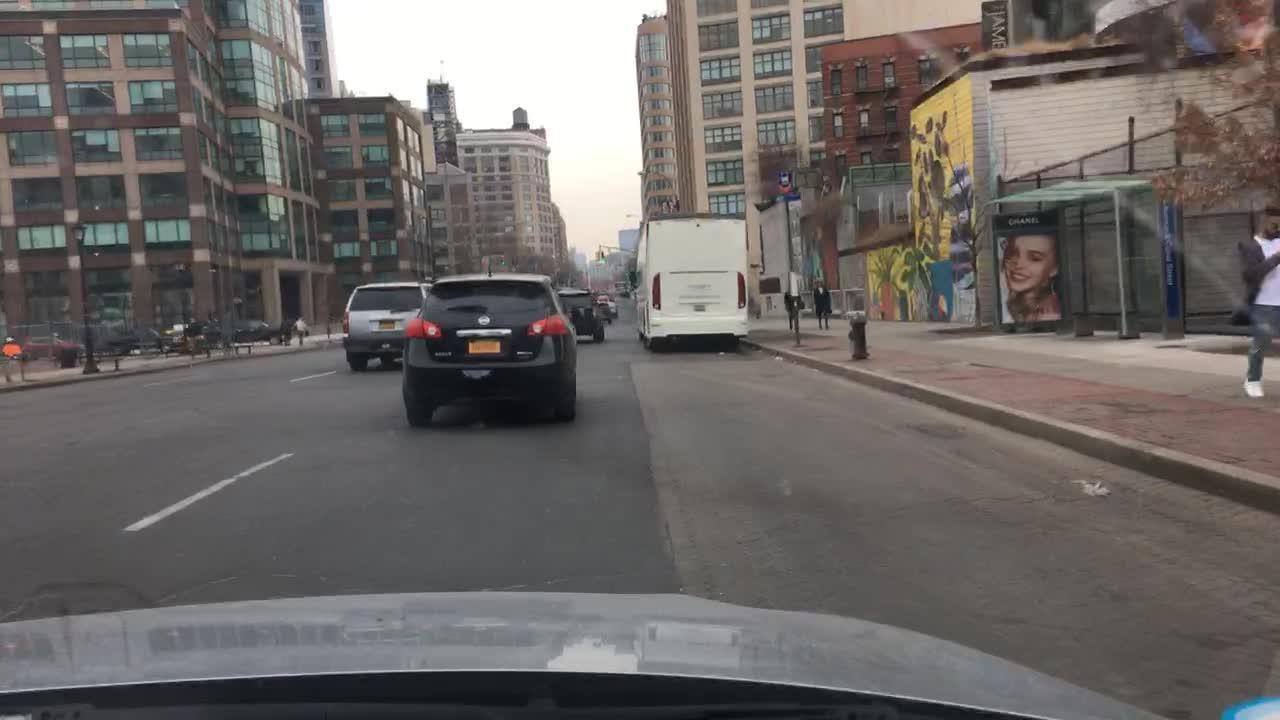Nissan: (477, 313, 497, 329)
